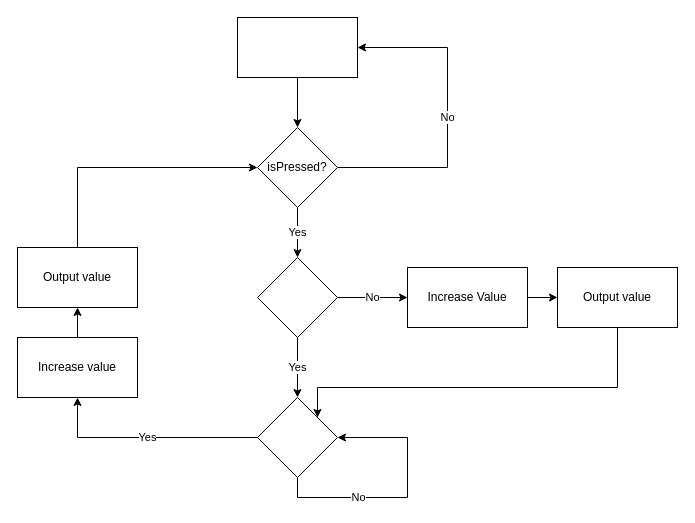
Some shapes in this 695 by 523 pixel diagram are drawn without their labels. Each missing label, with the box of its shape:
isReleased?: (256, 396, 338, 478)
Start: (236, 16, 358, 78)
Value Used?: (256, 256, 338, 338)
